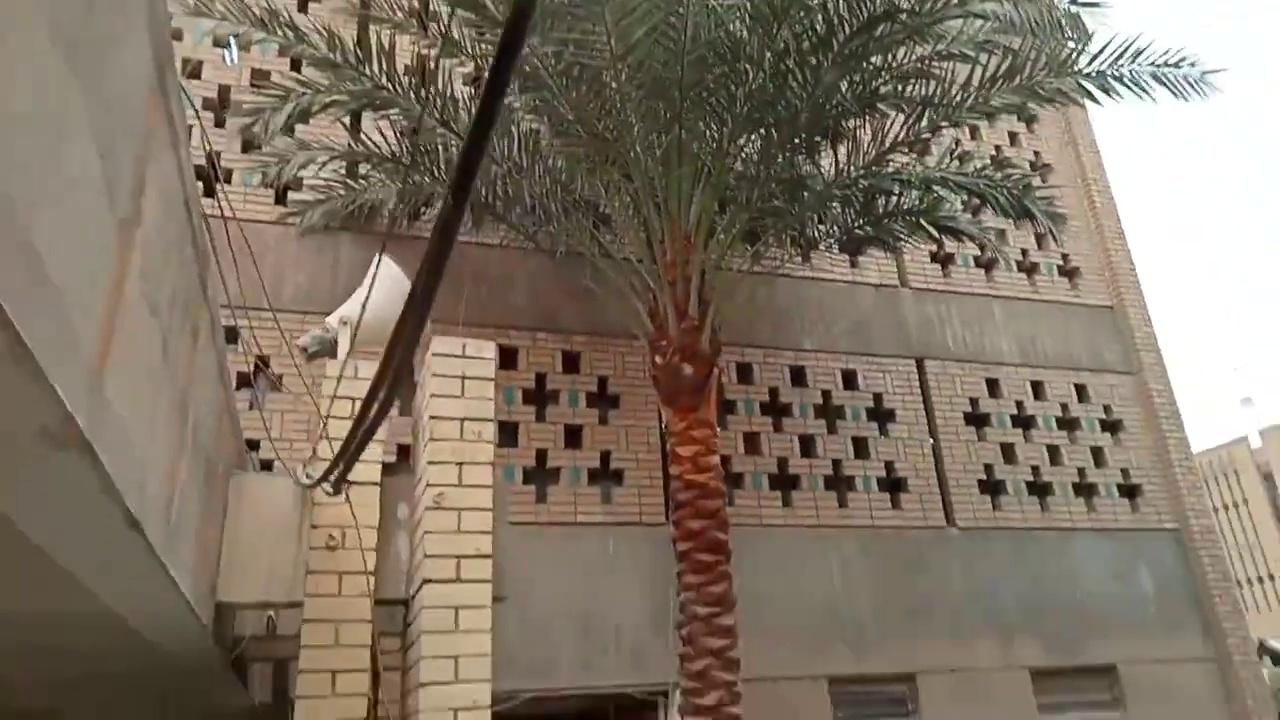person: (247, 354, 278, 411)
tree: (171, 1, 1228, 716)
